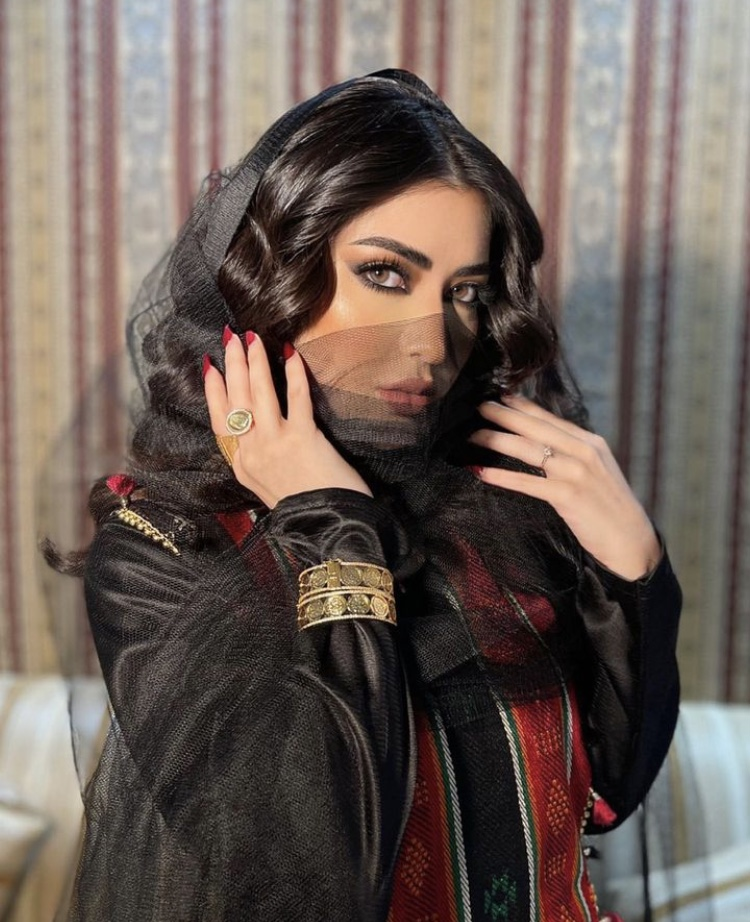Saudi_Founding_Day: (32, 67, 685, 922)
